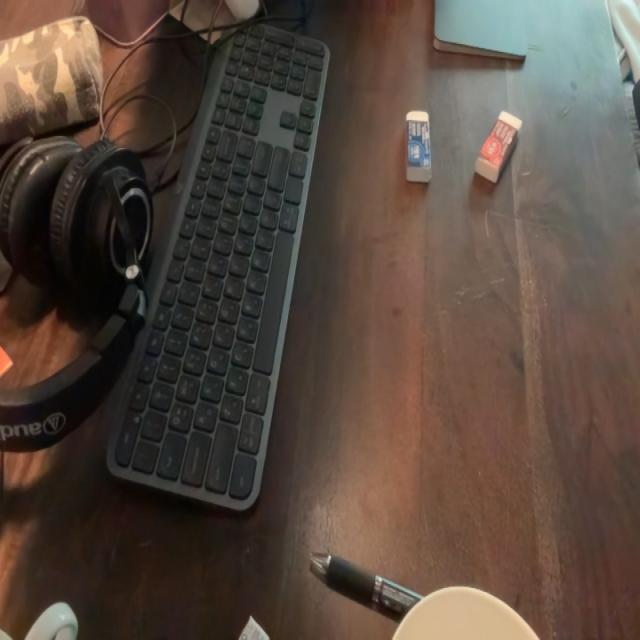blue: (400, 101, 437, 195)
red: (471, 103, 527, 188)
